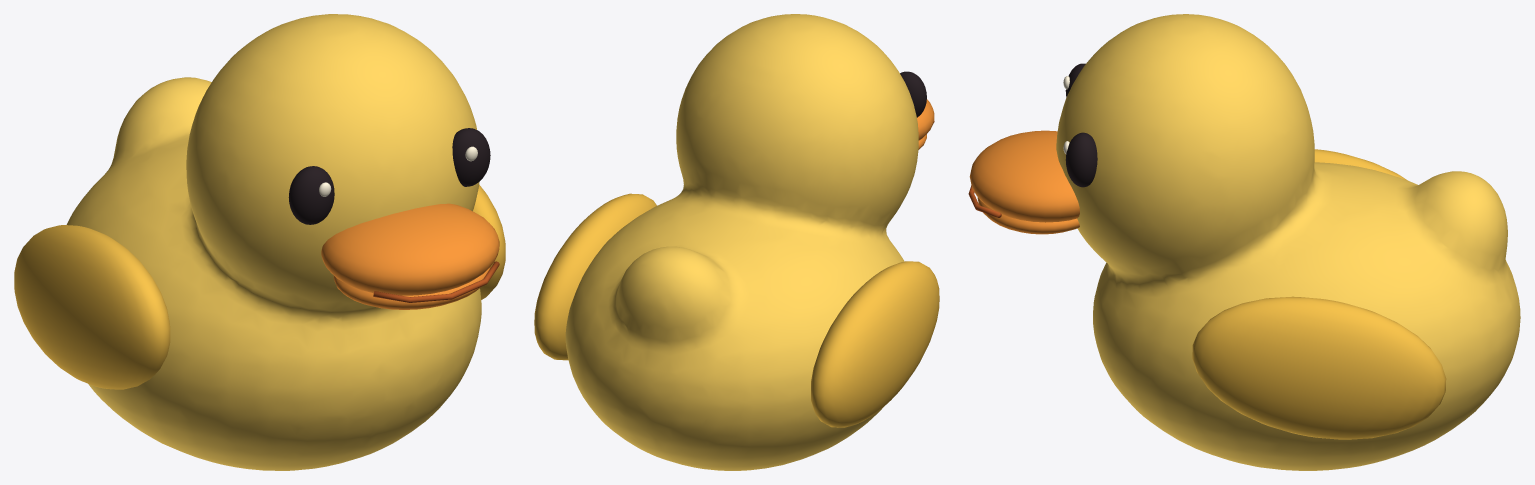
The model's file is duck.glb.
3 views of the same model, side by side, from view 1: azimuth 30°, elevation 25°; view 2: azimuth 150°, elevation 25°; view 3: azimuth 270°, elevation 25° (orthographic). The views are drawn at different scales.
Visible parts, largest first — view 1: duck_body, duck_wing_left, duck_beak_upper, duck_eye_left, duck_eye_right, duck_beak_lower, duck_wing_right, duck_beak_smile; view 2: duck_body, duck_wing_left, duck_wing_right, duck_eye_left, duck_beak_upper; view 3: duck_body, duck_wing_right, duck_beak_upper, duck_eye_right, duck_beak_lower, duck_wing_left.
Boxes of the visible parts, bbox=[...] form: duck_body: bbox=[66, 14, 481, 470]; duck_wing_left: bbox=[14, 225, 170, 389]; duck_beak_upper: bbox=[321, 203, 499, 295]; duck_eye_left: bbox=[288, 166, 334, 224]; duck_eye_right: bbox=[452, 128, 490, 186]; duck_beak_lower: bbox=[333, 267, 490, 309]; duck_wing_right: bbox=[473, 185, 505, 299]; duck_beak_smile: bbox=[373, 261, 499, 302]; duck_body: bbox=[565, 14, 918, 470]; duck_wing_left: bbox=[811, 261, 939, 427]; duck_wing_right: bbox=[534, 193, 656, 360]; duck_eye_left: bbox=[900, 71, 926, 117]; duck_beak_upper: bbox=[917, 99, 934, 140]; duck_body: bbox=[1056, 14, 1520, 470]; duck_wing_right: bbox=[1192, 296, 1446, 439]; duck_beak_upper: bbox=[969, 130, 1079, 222]; duck_eye_right: bbox=[1065, 132, 1097, 187]; duck_beak_lower: bbox=[977, 197, 1079, 234]; duck_wing_left: bbox=[1314, 149, 1407, 180].
Size of the model in its own units: 0.2502 by 0.2597 by 0.3226.
